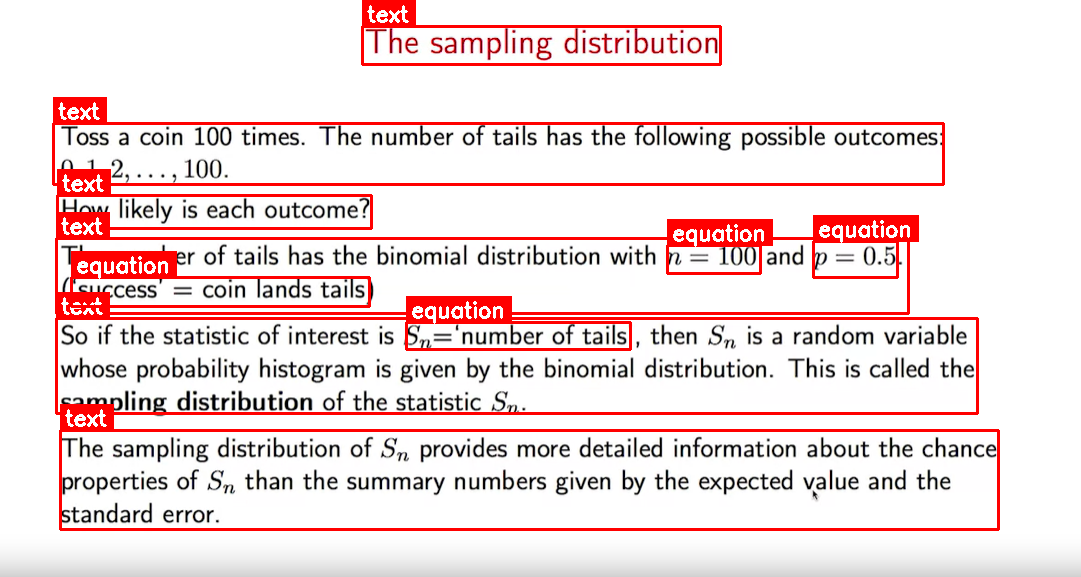equation: (71, 277, 369, 306), (406, 322, 630, 349), (813, 241, 897, 277), (667, 245, 760, 273)
text: (60, 430, 998, 529), (56, 318, 977, 413), (56, 238, 908, 313), (53, 123, 943, 184), (362, 26, 720, 64), (57, 195, 371, 228)
